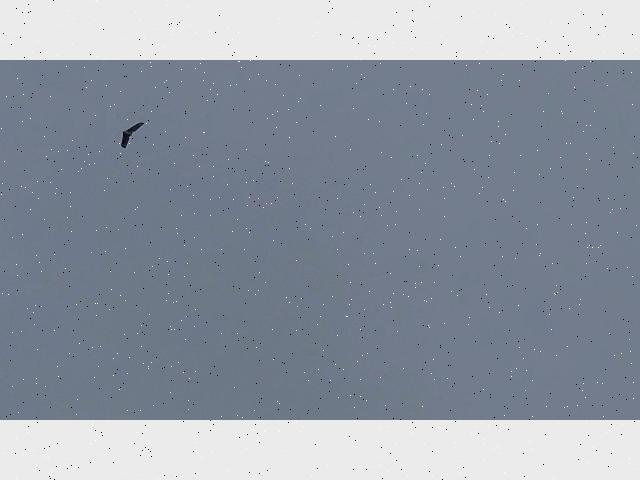Anti-Drone: (121, 122, 145, 148)
